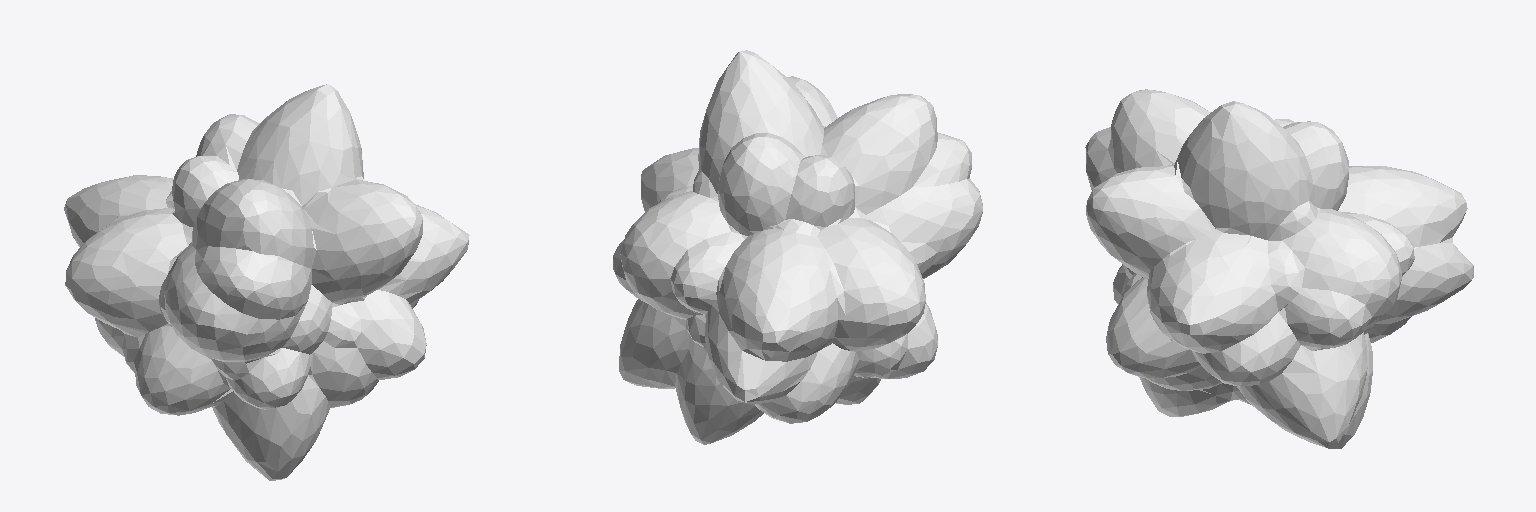
File: UnstableExplosion.obj
3 views of the same model, side by side, from view 1: azimuth 30°, elevation 25°; view 2: azimuth 150°, elevation 25°; view 3: azimuth 270°, elevation 25° (orthographic).
Visible parts, largest first — view 1: Explosion1; view 2: Explosion1; view 3: Explosion1.
Boxes of the visible parts, box(x1,y1,x2,y2) form: Explosion1: box(64, 84, 469, 480); Explosion1: box(613, 50, 982, 444); Explosion1: box(1085, 89, 1473, 448).
Bounding box in the file's own units: 10 × 10 × 10.